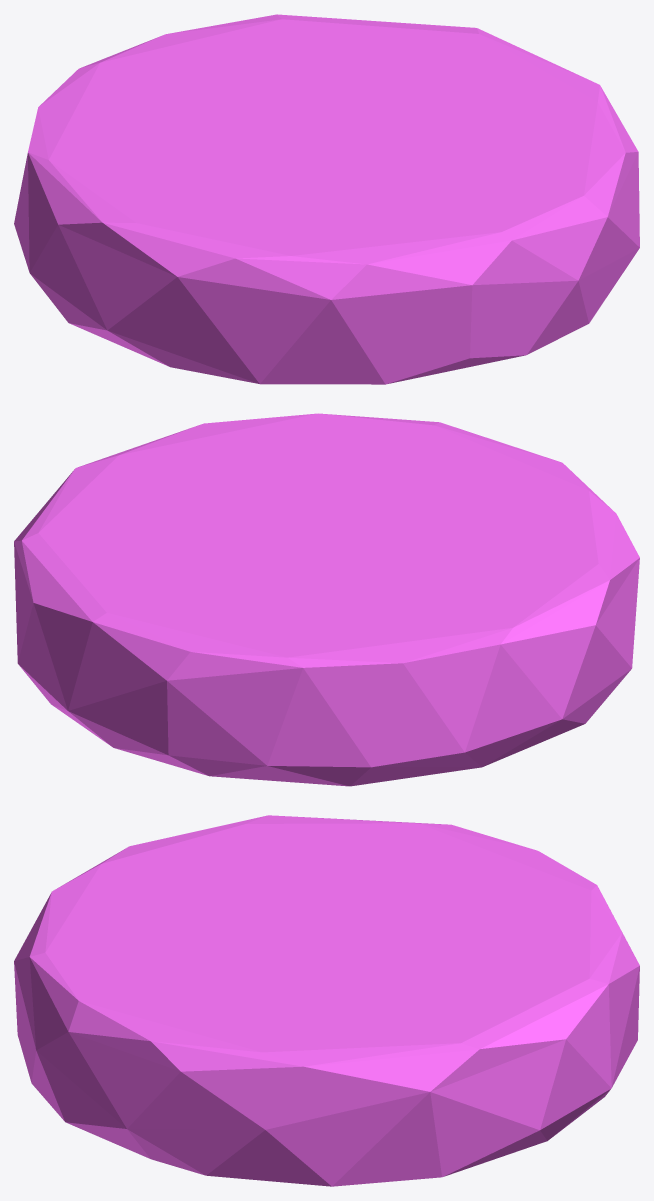
Rendered from raw meat.fbx.
The picture shows the model from 3 angles, top to bottom: view 1: azimuth 30°, elevation 25°; view 2: azimuth 150°, elevation 25°; view 3: azimuth 270°, elevation 25°; orthographic projection.
Parts seen in each view (by area): view 1: raw meat; view 2: raw meat; view 3: raw meat.
Boxes of the visible parts, box(x1,y1,x2,y2) form: raw meat: box(14, 14, 639, 384); raw meat: box(14, 413, 639, 786); raw meat: box(14, 815, 639, 1186).
Bounding box in the file's own units: 164 × 36.54 × 165.
